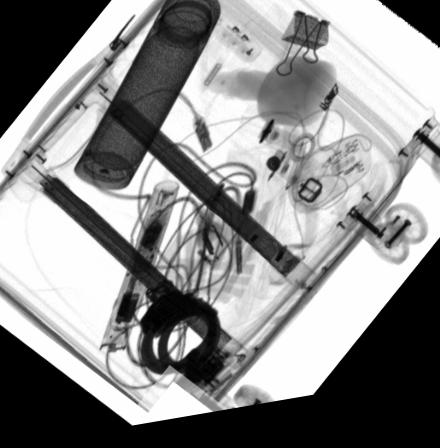Baton: (96, 186, 179, 359)
HandCuffs: (136, 283, 219, 384)
